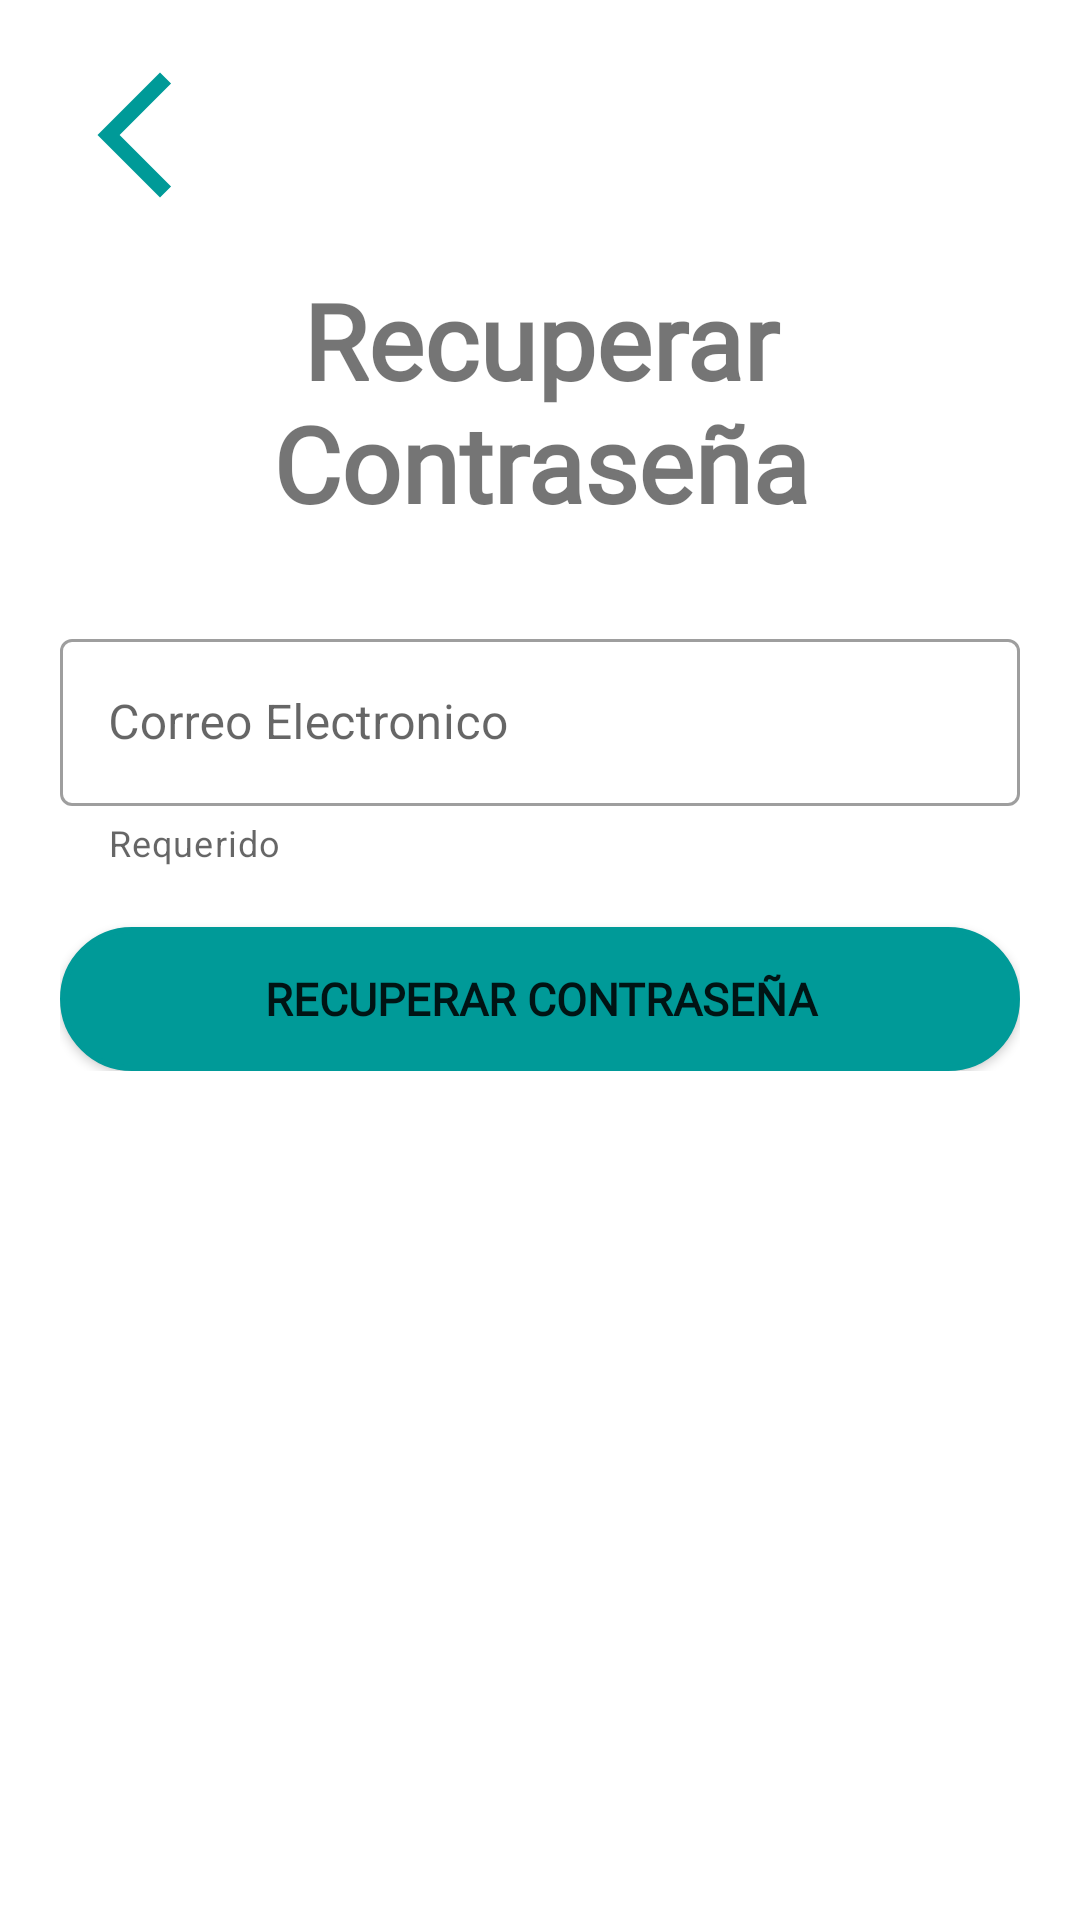

Named icons in this screenshot (1080w x 1920h) and their bounding boxes, (x1, y1, x2, y2):
arrow back: (97, 72, 171, 198)
